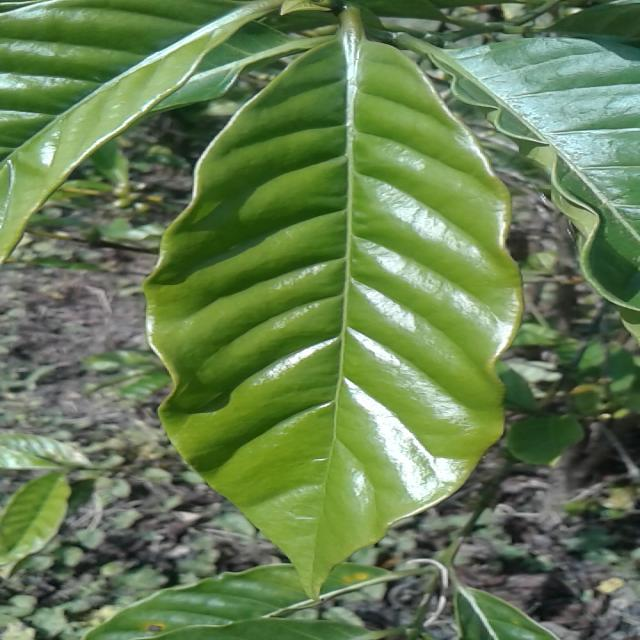Sanas: (142, 6, 523, 604)
